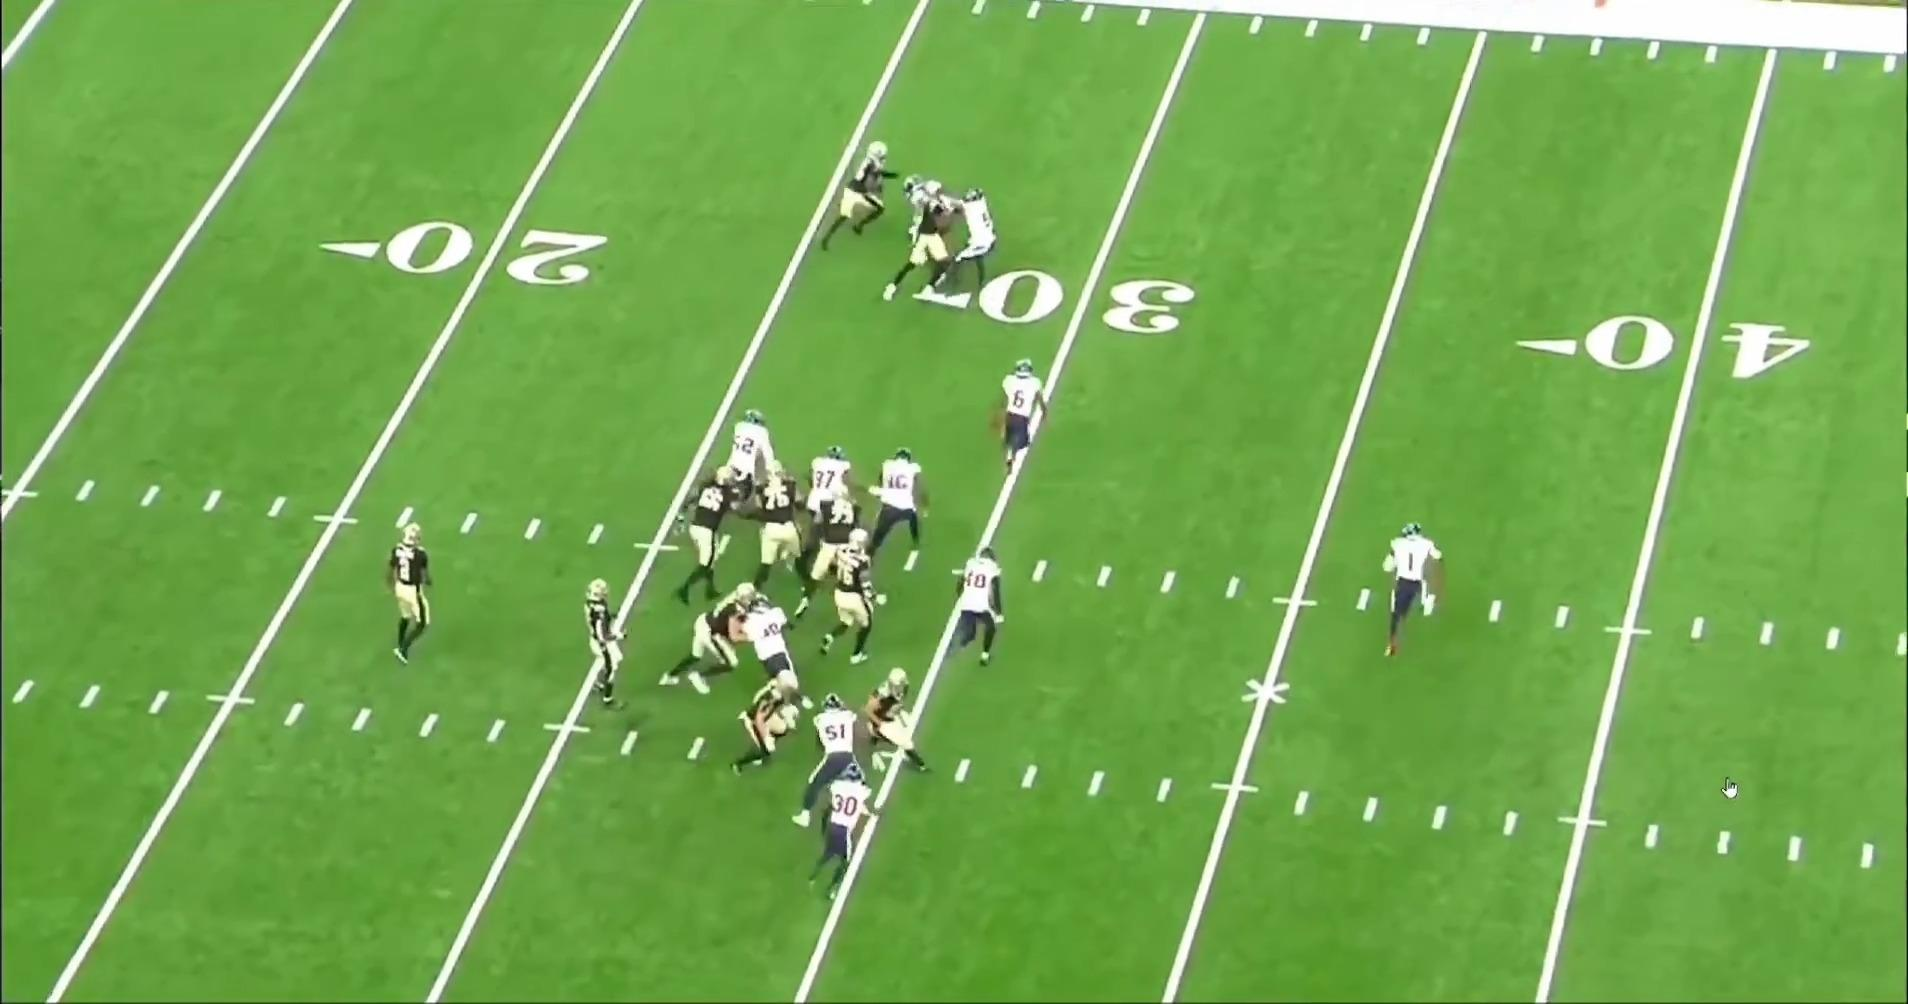defense: (799, 692, 888, 830), (801, 763, 878, 901), (726, 600, 813, 716), (1377, 520, 1445, 663), (944, 544, 1012, 672), (989, 357, 1049, 476), (868, 441, 930, 551), (719, 405, 781, 511), (950, 187, 1008, 298), (803, 445, 857, 521), (898, 170, 944, 241)
oline: (655, 576, 760, 698), (795, 482, 871, 624), (671, 463, 747, 604), (820, 532, 892, 670), (747, 459, 813, 598)
qb: (377, 520, 437, 675)
skill: (874, 177, 954, 306), (813, 143, 895, 256), (582, 574, 644, 713), (853, 665, 924, 778), (726, 676, 799, 783)
